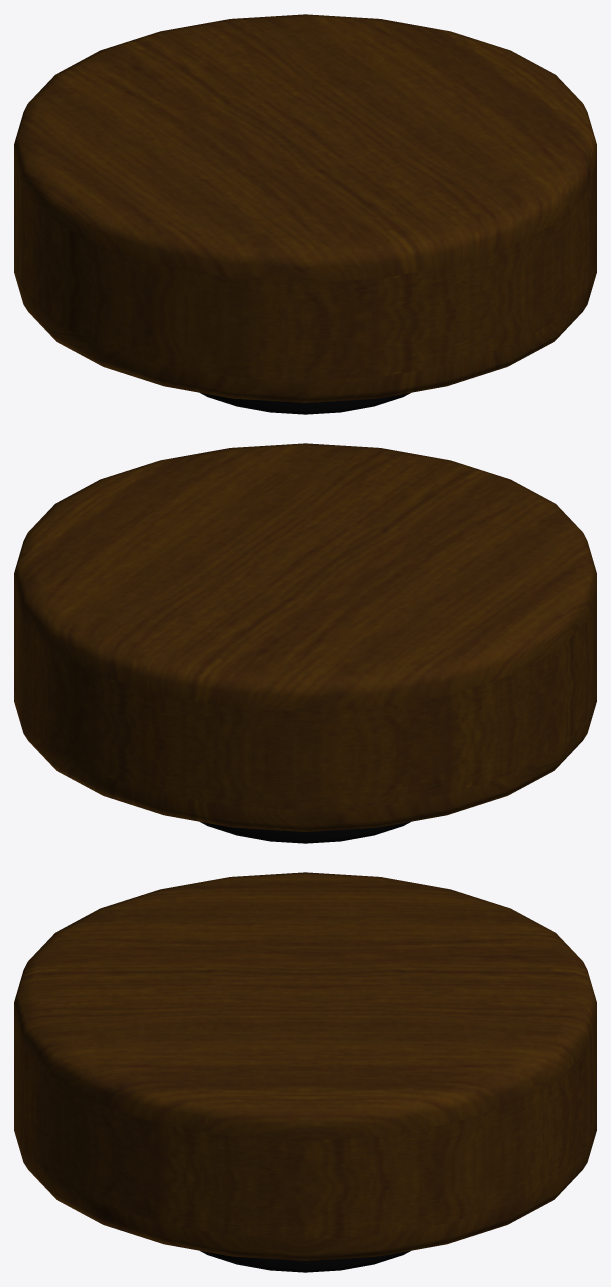
The model's file is circletable.fbx.
3 views of the same model, one above another, from view 1: azimuth 30°, elevation 25°; view 2: azimuth 150°, elevation 25°; view 3: azimuth 270°, elevation 25° (orthographic).
Visible parts, largest first — view 1: circletable, stand; view 2: circletable, stand; view 3: circletable, stand.
Boxes of the visible parts, box(x1,y1,x2,y2) form: circletable: box(14, 14, 596, 402); stand: box(200, 393, 410, 414); circletable: box(14, 443, 596, 831); stand: box(200, 822, 410, 843); circletable: box(14, 872, 596, 1260); stand: box(200, 1251, 410, 1272).
Bounding box in the file's own units: 3.76 × 1.63 × 3.74.
